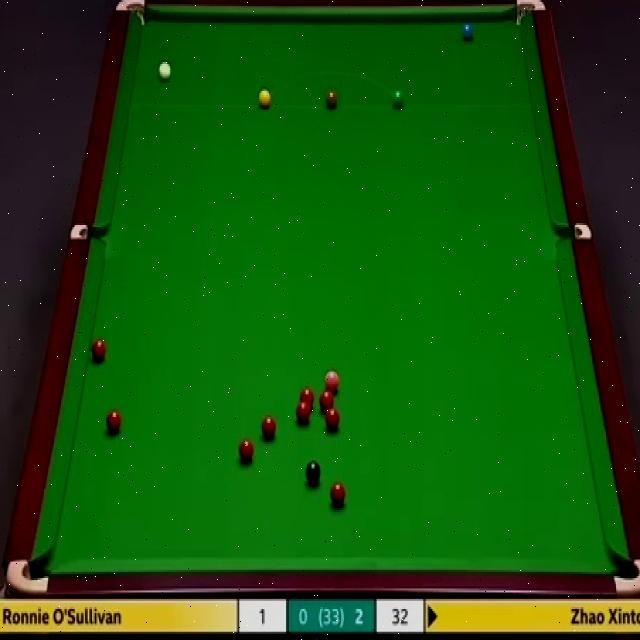black-ball: (305, 460, 323, 485)
blue-ball: (461, 20, 474, 42)
brown-ball: (326, 89, 339, 109)
green-ball: (390, 89, 406, 110)
pink-ball: (325, 368, 341, 393)
red-ball: (295, 401, 313, 425), (106, 406, 121, 434), (238, 438, 255, 462), (324, 406, 340, 431), (320, 389, 335, 415), (260, 414, 276, 438), (91, 339, 107, 362), (300, 386, 316, 408), (331, 482, 345, 504)
white-ball: (157, 62, 171, 81)
yellow-ball: (257, 88, 272, 109)
